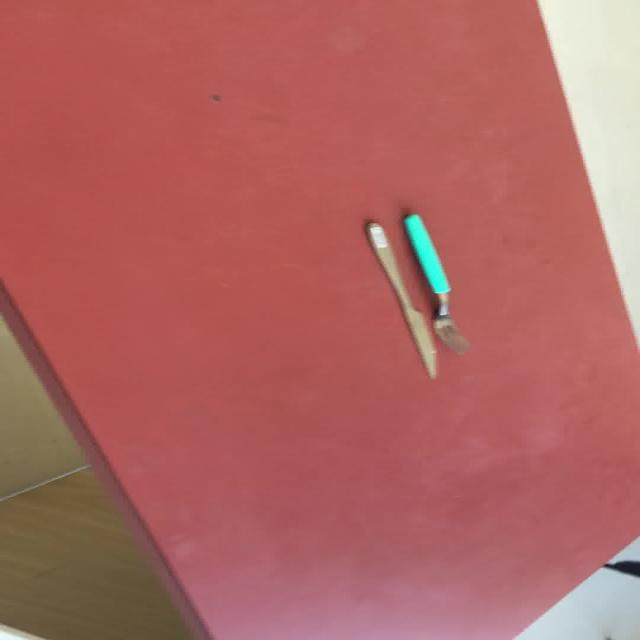fork: (399, 205, 470, 354)
knife fork: (362, 219, 437, 379)
